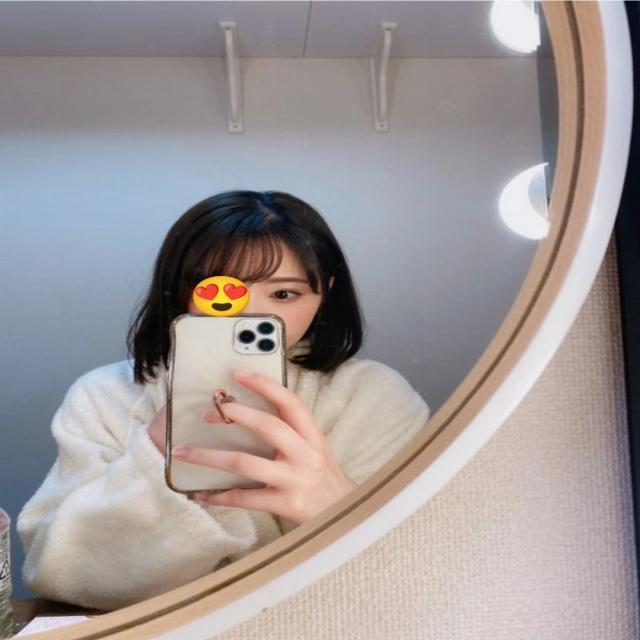phone: (167, 315, 285, 492)
